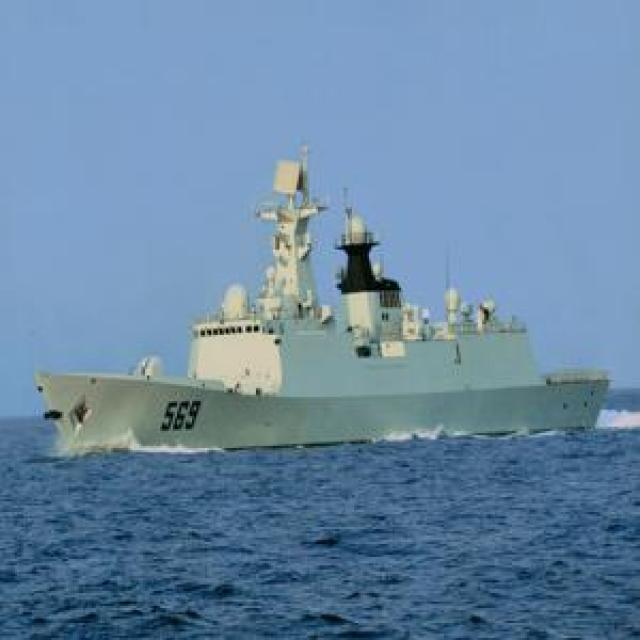navalvessels: (28, 150, 610, 454)
